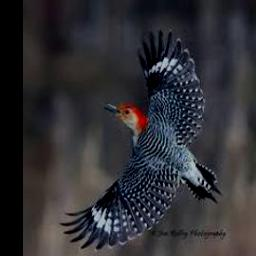Woodpecker: (60, 28, 222, 252)
